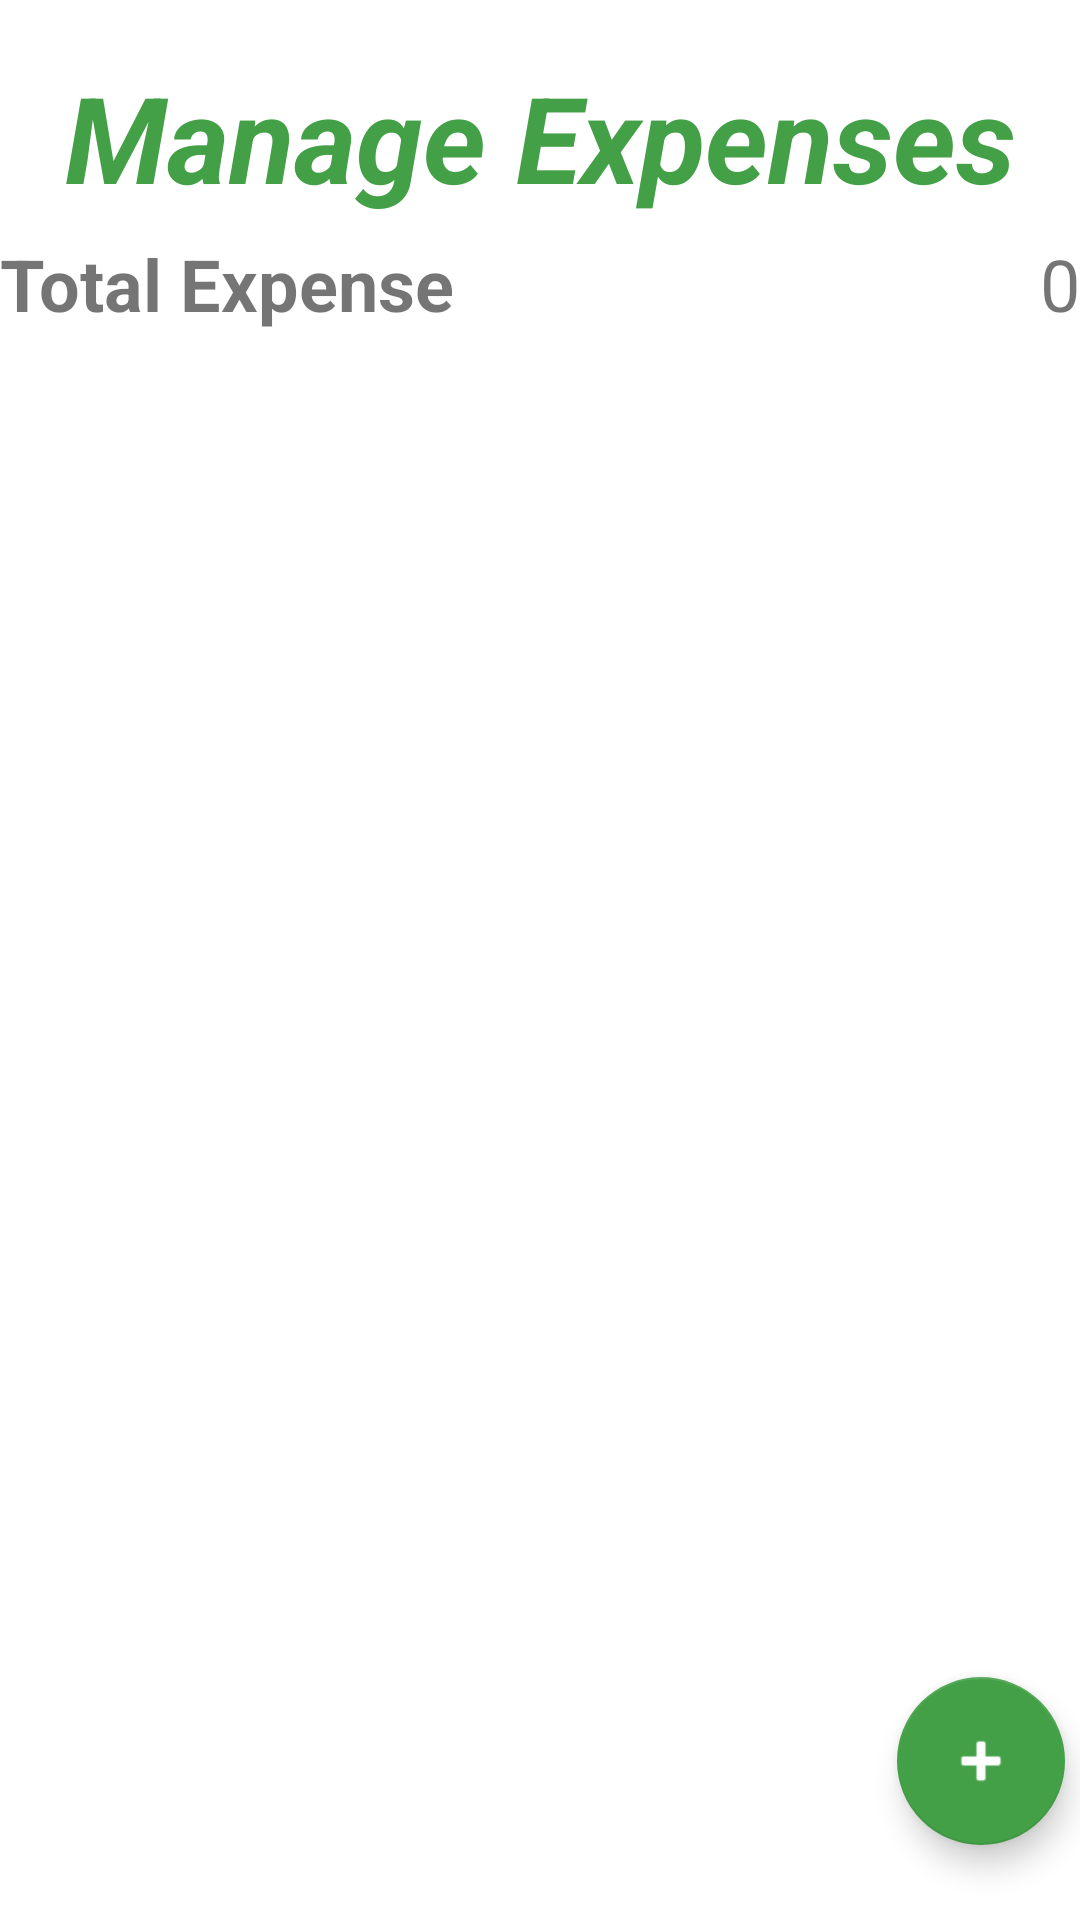

Named icons in this screenshot (1080x1920) and their bounding boxes, (x1, y1, x2, y2):
add: (897, 1677, 1065, 1845)
